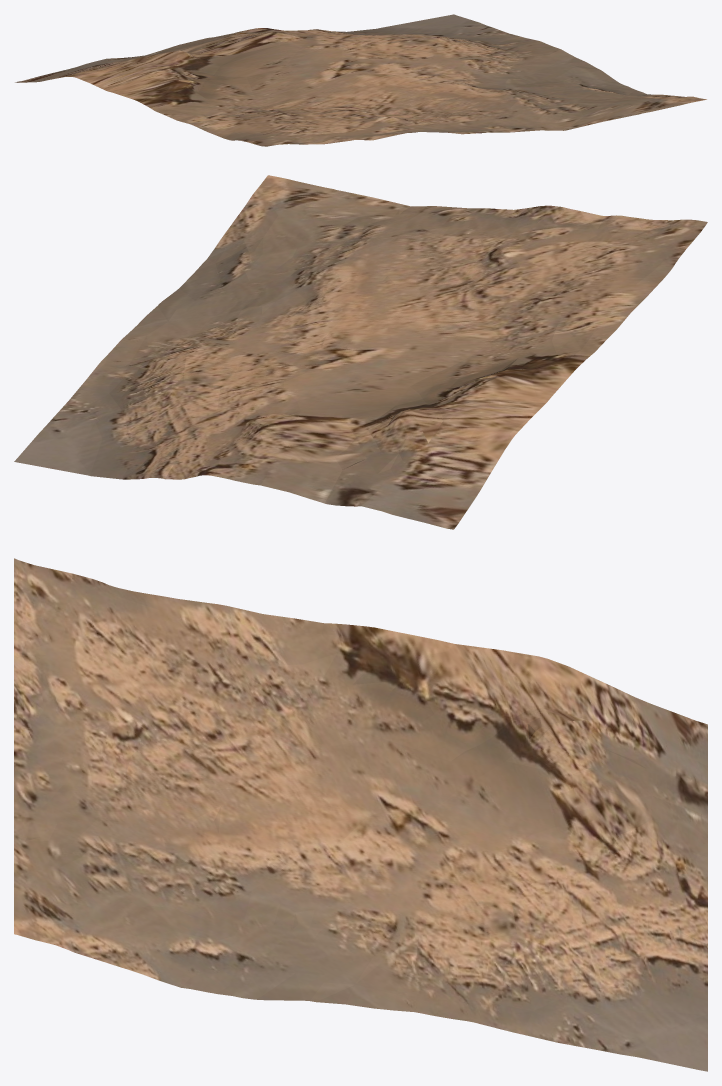
The picture shows the model from 3 angles, top to bottom: view 1: azimuth 30°, elevation 25°; view 2: azimuth 150°, elevation 25°; view 3: azimuth 270°, elevation 25°; orthographic projection. The views are drawn at different scales.
Bounding box in the file's own units: 4.18 × 1.46 × 4.18.
2 materials, 2 textured.
